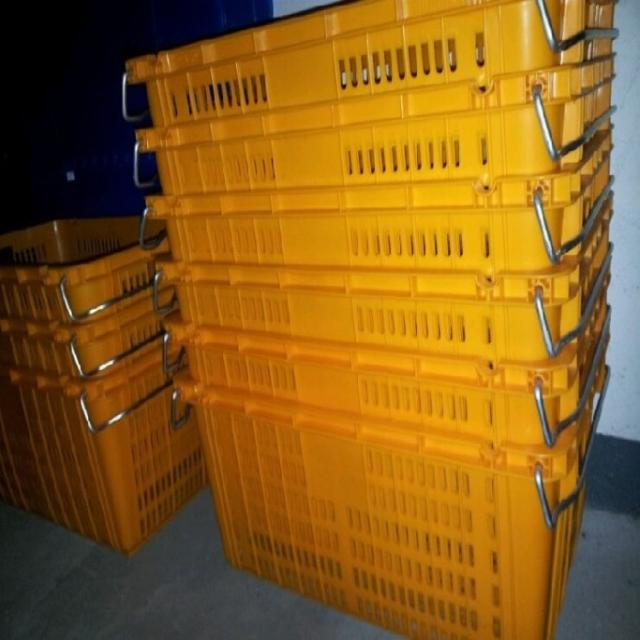basket: (0, 217, 206, 555)
